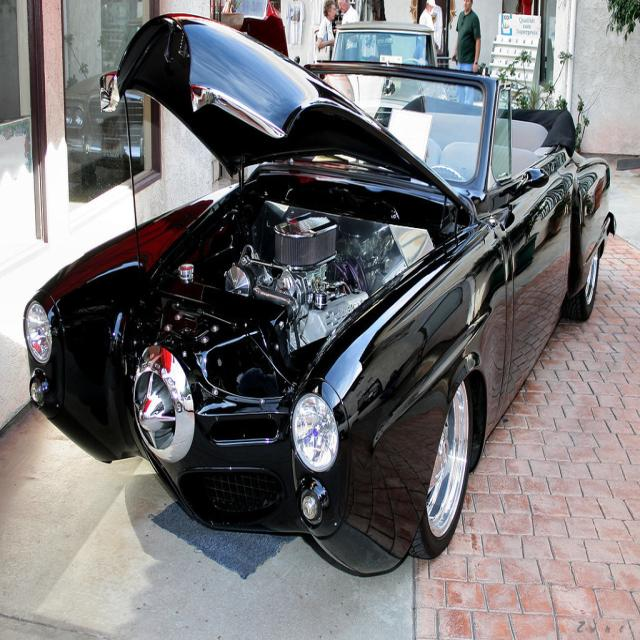car: (17, 7, 619, 638)
